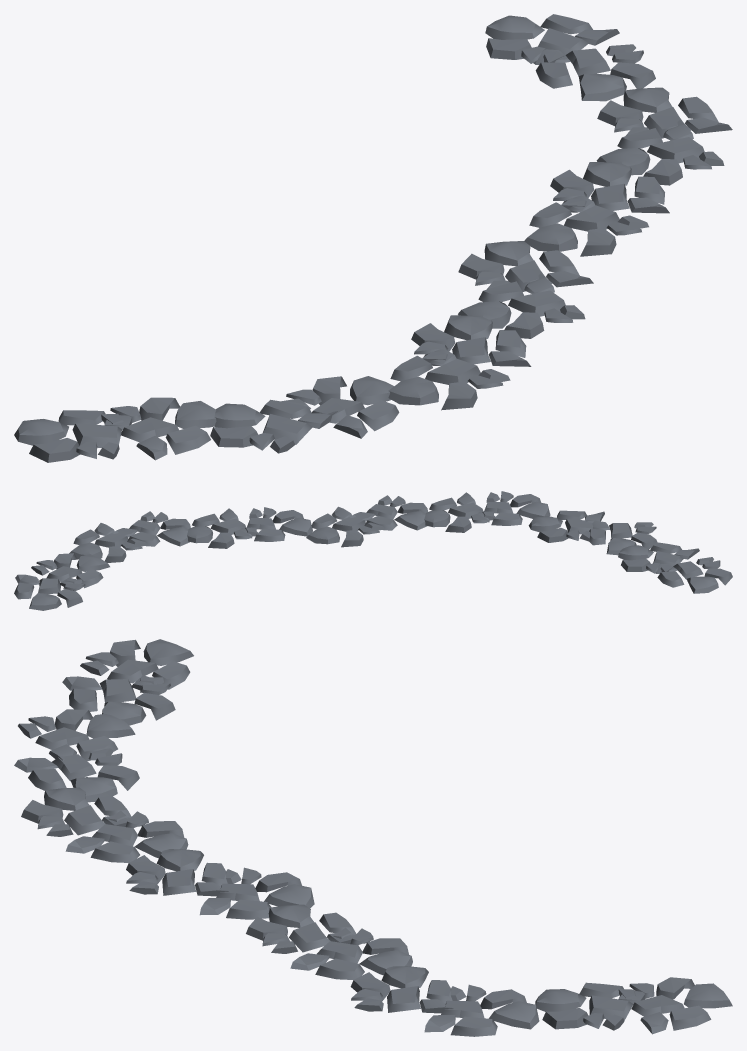
Rendered from rocks001.fbx.
3 views of the same model, one above another, from view 1: azimuth 30°, elevation 25°; view 2: azimuth 150°, elevation 25°; view 3: azimuth 270°, elevation 25° (orthographic). The views are drawn at different scales.
Parts seen in each view (by area): view 1: pasted__group18; view 2: pasted__group18; view 3: pasted__group18.
Part boxes in pixels (box(x1,y1,x2,y2)): pasted__group18: box(14, 14, 732, 462); pasted__group18: box(14, 491, 732, 610); pasted__group18: box(14, 639, 732, 1036).
Size of the model in its own units: 1058 by 22.87 by 825.
